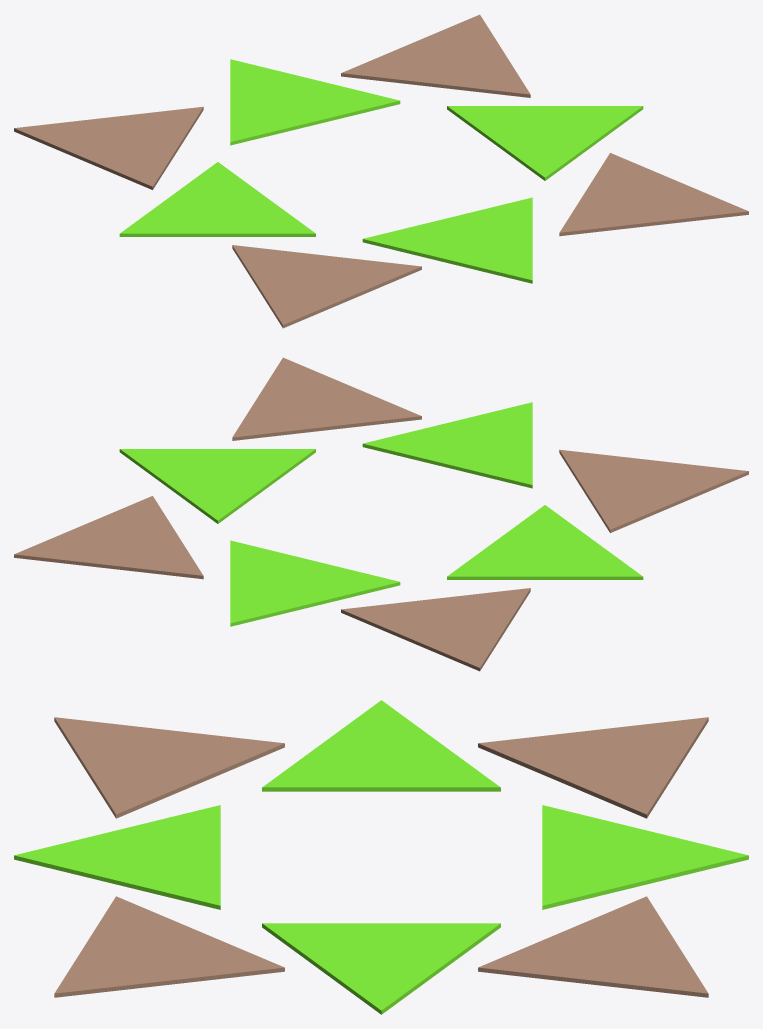
File: MoveArrow.glb
The picture shows the model from 3 angles, top to bottom: view 1: azimuth 30°, elevation 25°; view 2: azimuth 150°, elevation 25°; view 3: azimuth 270°, elevation 25°; orthographic projection. The views are drawn at different scales.
Visible parts, largest first — view 1: MoveArrow; view 2: MoveArrow; view 3: MoveArrow.
Part boxes in pixels (x1,y1,x2,y2): MoveArrow: [14, 14, 748, 328]; MoveArrow: [14, 357, 748, 671]; MoveArrow: [14, 700, 748, 1014].
Bounding box in the file's own units: 1.6 × 0.01 × 1.6.
